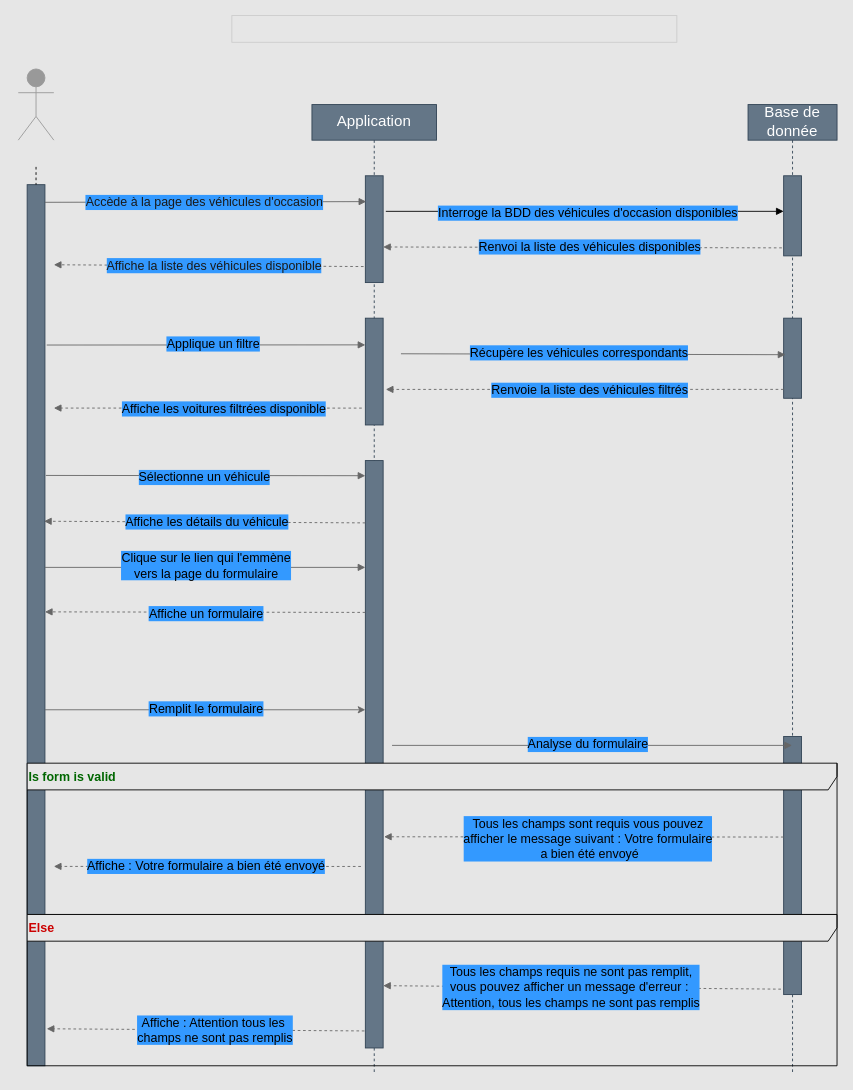
This 853x1090 diagram has some shape labels left out. Here are the shapes that lost their labels. From the top down, the centre of each, then its label:
At (454,28): "Diagramme de séquence".
At (35,104): "Visisteur".
